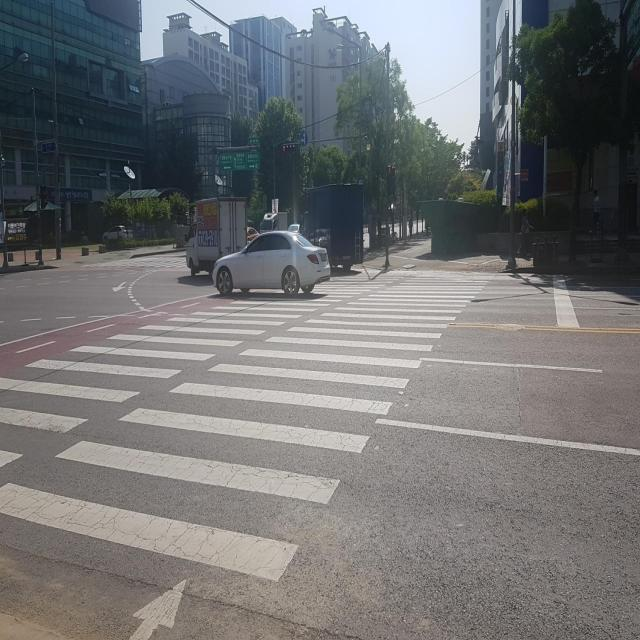횡단보도: (1, 267, 493, 640)
